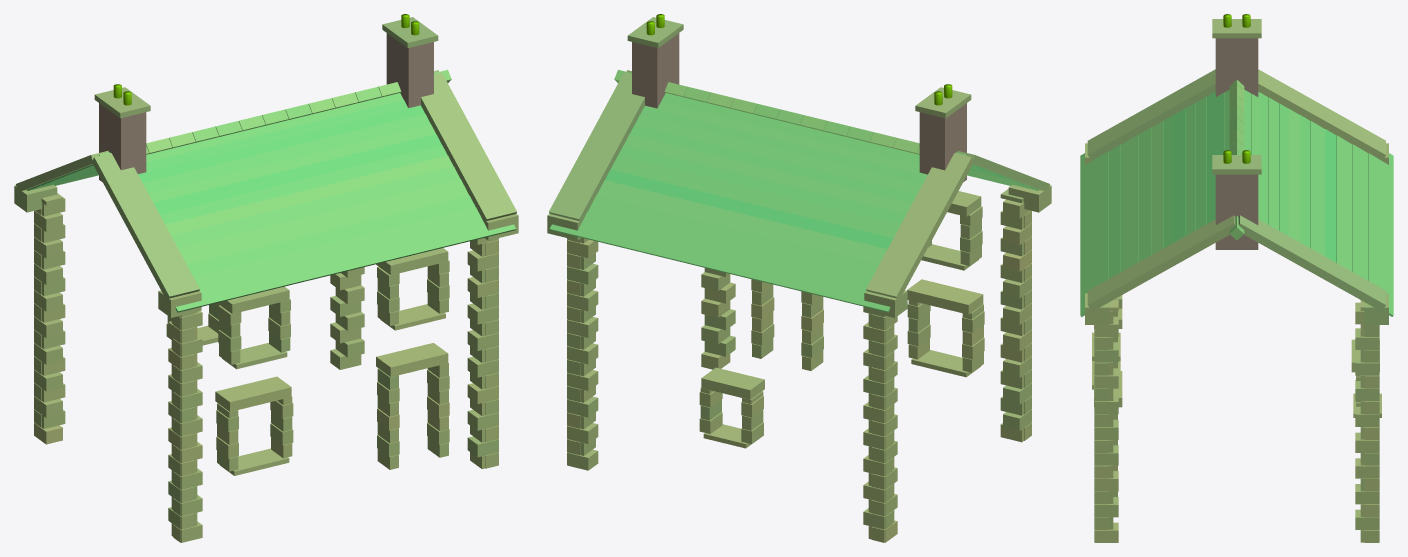
File: SM_Bld_106_Stone.glb
The picture shows the model from 3 angles, left to right: view 1: azimuth 30°, elevation 25°; view 2: azimuth 150°, elevation 25°; view 3: azimuth 270°, elevation 25°; orthographic projection. The views are drawn at different scales.
Parts seen in each view (by area): view 1: SM_Bld_106_Stone; view 2: SM_Bld_106_Stone; view 3: SM_Bld_106_Stone.
Part boxes in pixels (x1,y1,x2,y2): SM_Bld_106_Stone: [14, 14, 518, 542]; SM_Bld_106_Stone: [547, 14, 1051, 542]; SM_Bld_106_Stone: [1080, 14, 1393, 542].
Bounding box in the file's own units: 8.4 × 8.95 × 6.61.
